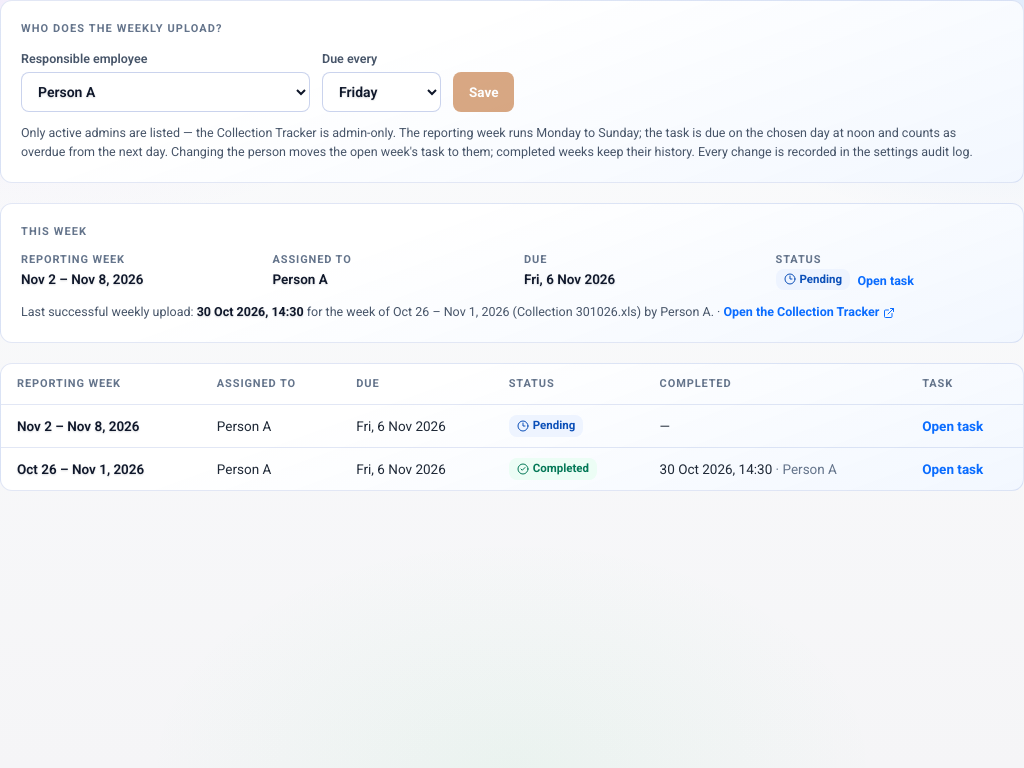
Test: Weekly Bulk Upload — admin page › saves the chosen person and due day through the action, and says what followed
Expected: the button "Save" is disabled, [453,72,514,112]
Select "Person B — no Bulk Upload permission" in the dropdown labelled "Responsible employee" at (166, 92), box [21,72,310,112]
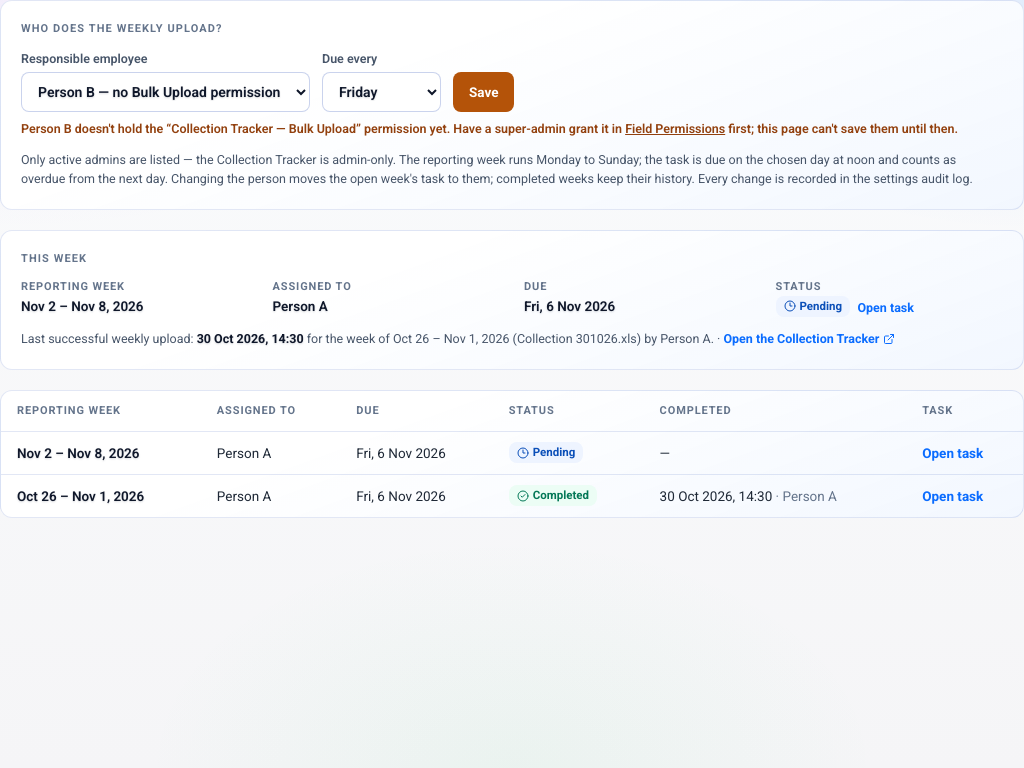
Select "Wednesday" in the dropdown named "Due weekday" at (382, 92), box [322,72,441,112]
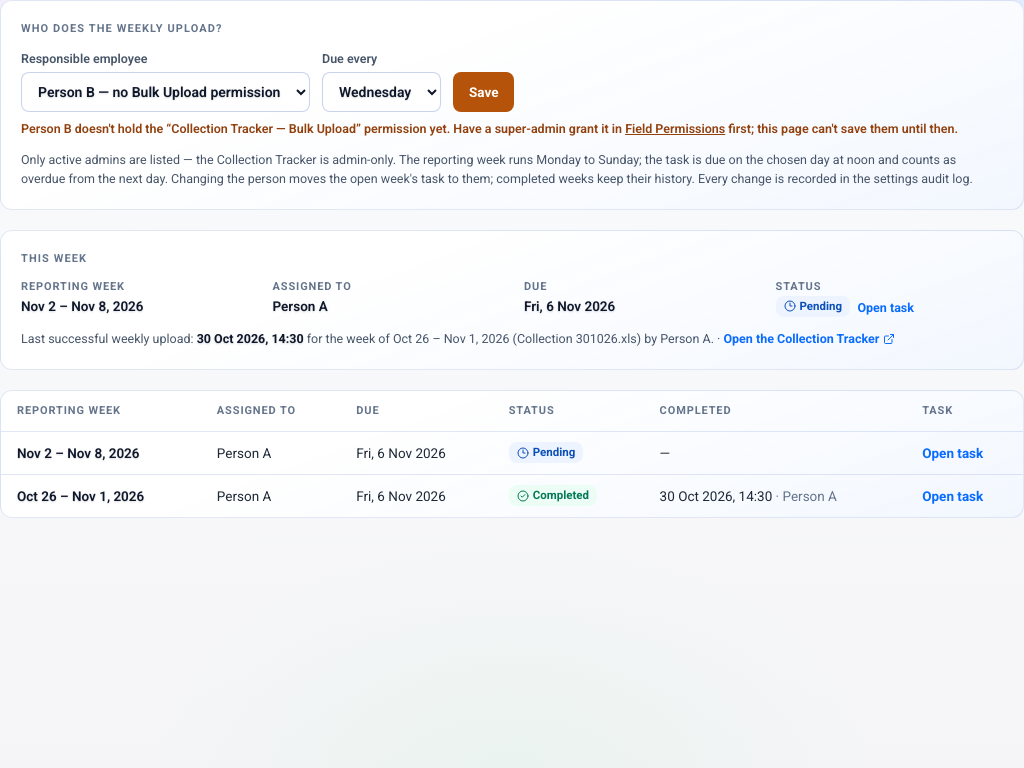
Expected: the text "Person B doesn.t hold the" is shown, [21,120,1003,139]
Expected: the button "Save" is enabled
Click the button "Save" at (484, 92), box [453,72,514,112]
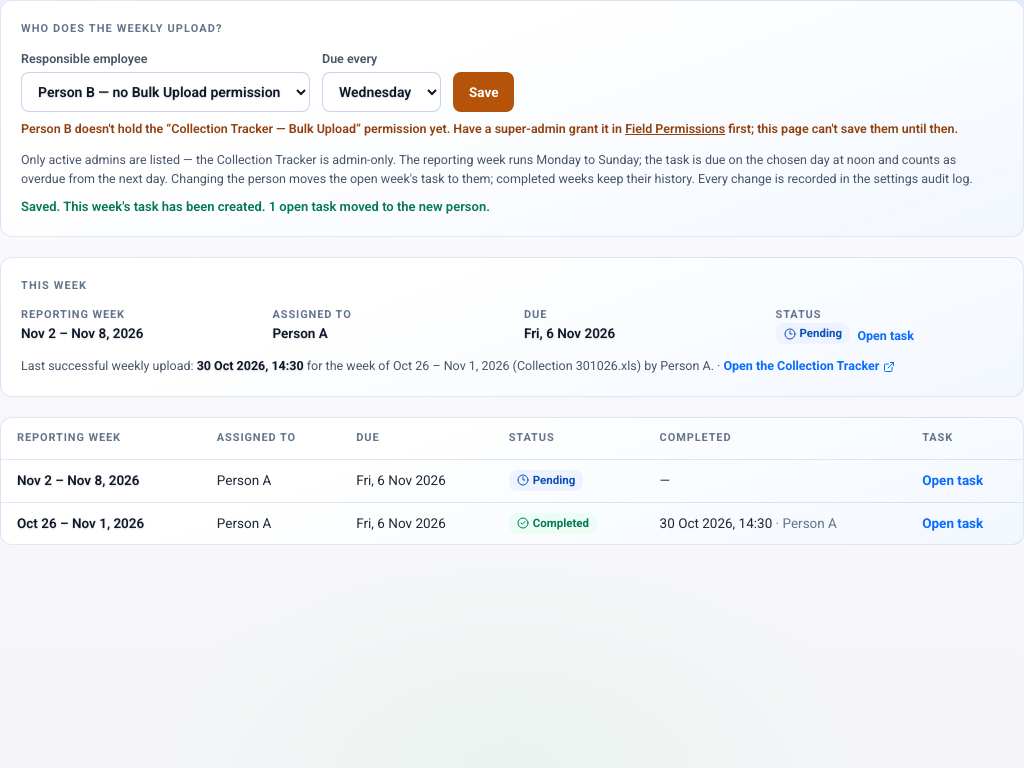
Expected: the message shows "Saved. This week's task has been created. 1 open task moved", [21,198,490,214]
